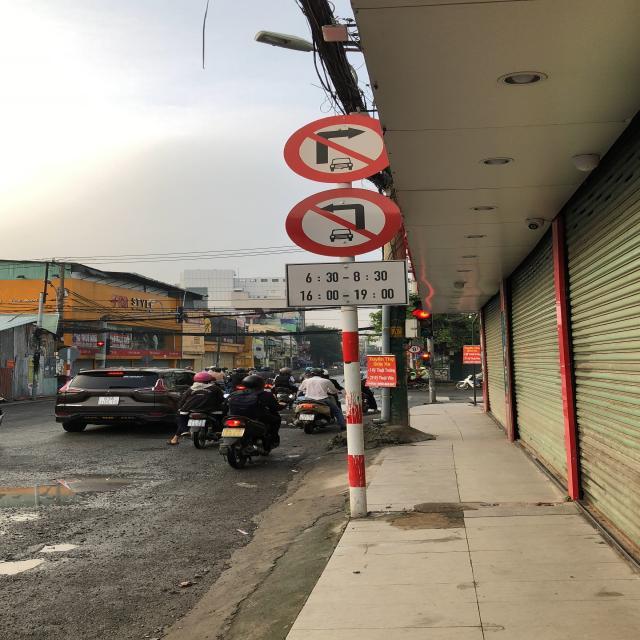Bien bao cam xe o to re phai: (280, 112, 395, 184)
Bien bao cam xe o to re trai: (286, 186, 406, 257)
